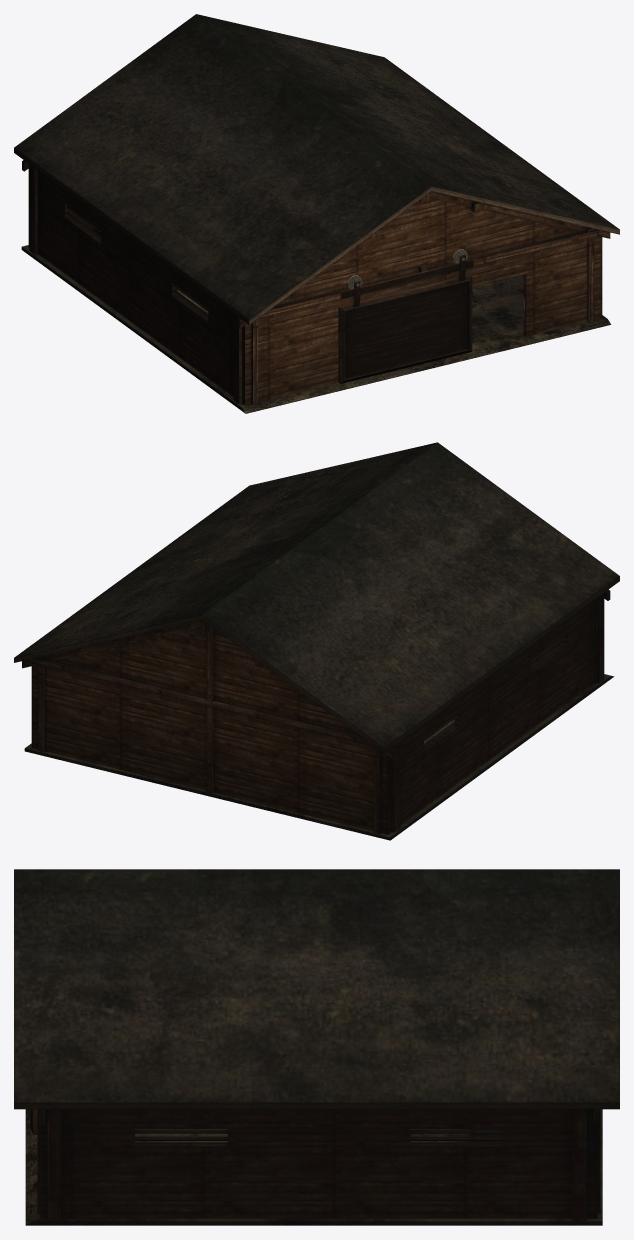
The picture shows the model from 3 angles, top to bottom: view 1: azimuth 30°, elevation 25°; view 2: azimuth 150°, elevation 25°; view 3: azimuth 270°, elevation 25°; orthographic projection. The views are drawn at different scales.
Parts seen in each view (by area): view 1: Barn; view 2: Barn; view 3: Barn.
Boxes of the visible parts, x1=… form: Barn: x1=14, y1=14, x2=619, y2=413; Barn: x1=14, y1=442, x2=619, y2=840; Barn: x1=14, y1=869, x2=619, y2=1225.
Bounding box in the file's own units: 8.96 × 4.31 × 9.85.
1 material, 1 textured.
